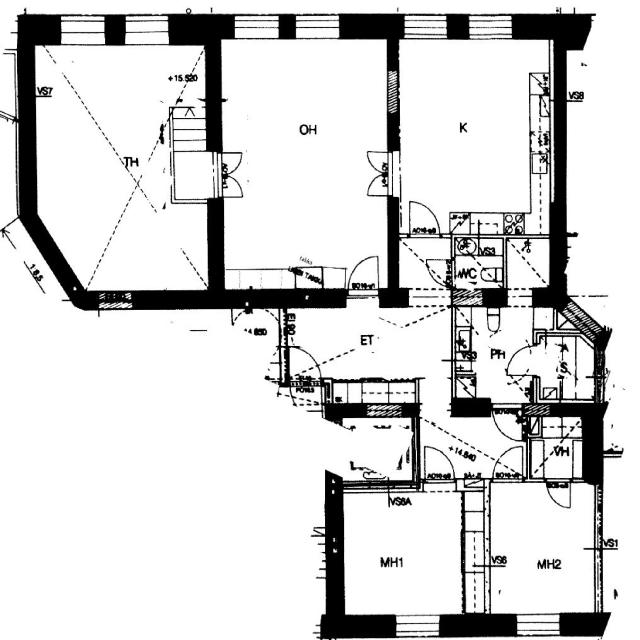door: (344, 251, 382, 293), (364, 146, 395, 197), (419, 442, 456, 481), (406, 197, 442, 236), (219, 149, 245, 199), (495, 444, 526, 476), (492, 408, 520, 441), (506, 345, 535, 375), (545, 477, 572, 509)
window: (121, 13, 174, 46), (55, 12, 110, 43), (290, 12, 346, 42), (400, 10, 452, 42), (465, 11, 516, 42), (390, 610, 446, 637), (233, 11, 285, 38), (512, 610, 564, 636)
zone: (32, 38, 215, 288), (218, 35, 389, 292), (397, 39, 545, 233), (340, 488, 485, 618), (485, 480, 599, 616), (454, 305, 532, 401), (532, 333, 595, 401), (530, 418, 585, 480), (450, 235, 506, 294), (505, 237, 551, 294), (566, 51, 586, 104)
